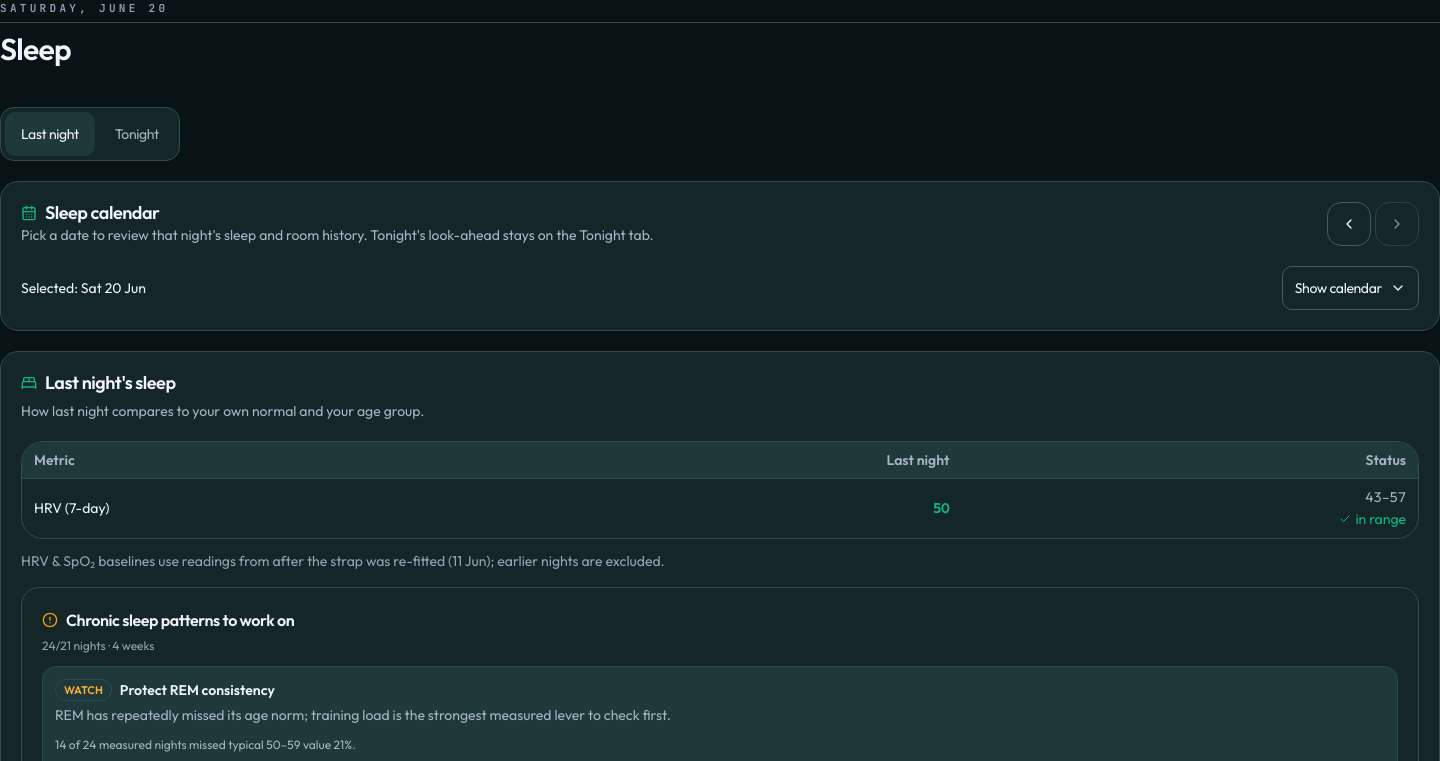
SleepPage › lets Mark browse an earlier night from the sleep calendar and loads that date history
The width and height of the screenshot is (1440, 761).
Expected: the heading "Last night's sleep" is shown, [21,371,176,394]
Click the button "Show calendar".
click(1350, 288)  # box [1282,266,1419,310]
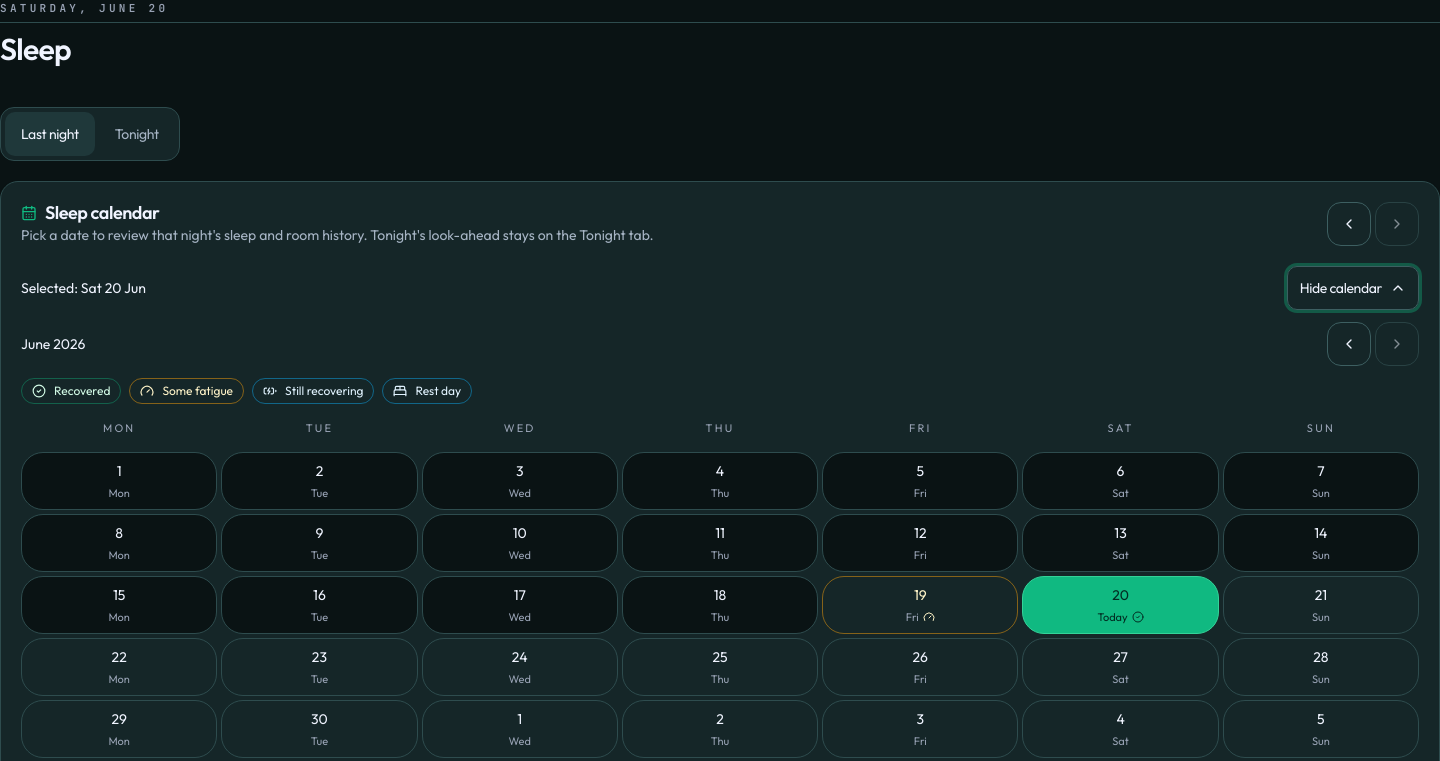
Click the button with aria-label "Friday 19 June 2026 - Some fatigue".
click(920, 605)  # box [822,576,1018,634]
(page scrolled)
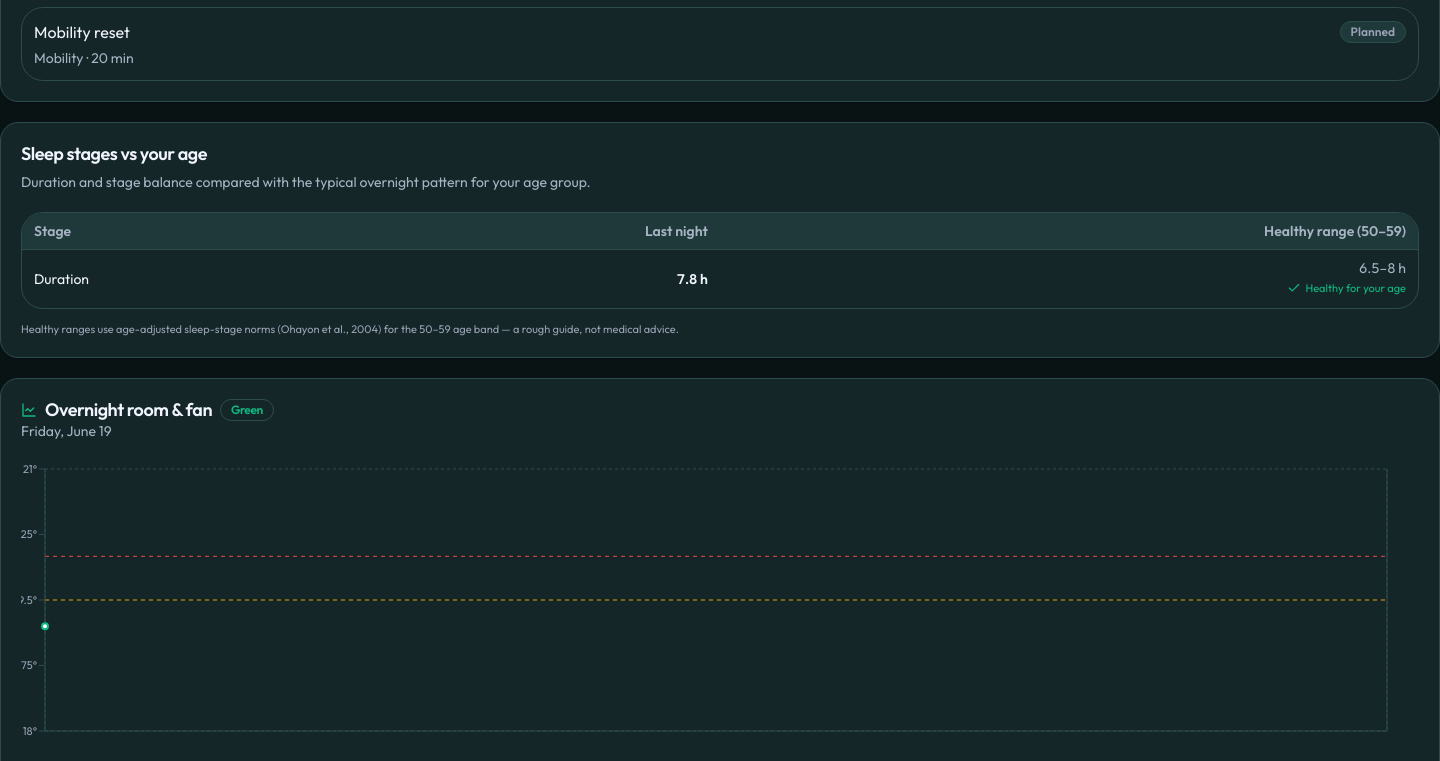
Now the text "Mobility reset" is shown, box [34,20,130,44]
Now the text with test id "overnight-room-verdict-badge" reads "Green", box [231,402,263,417]
